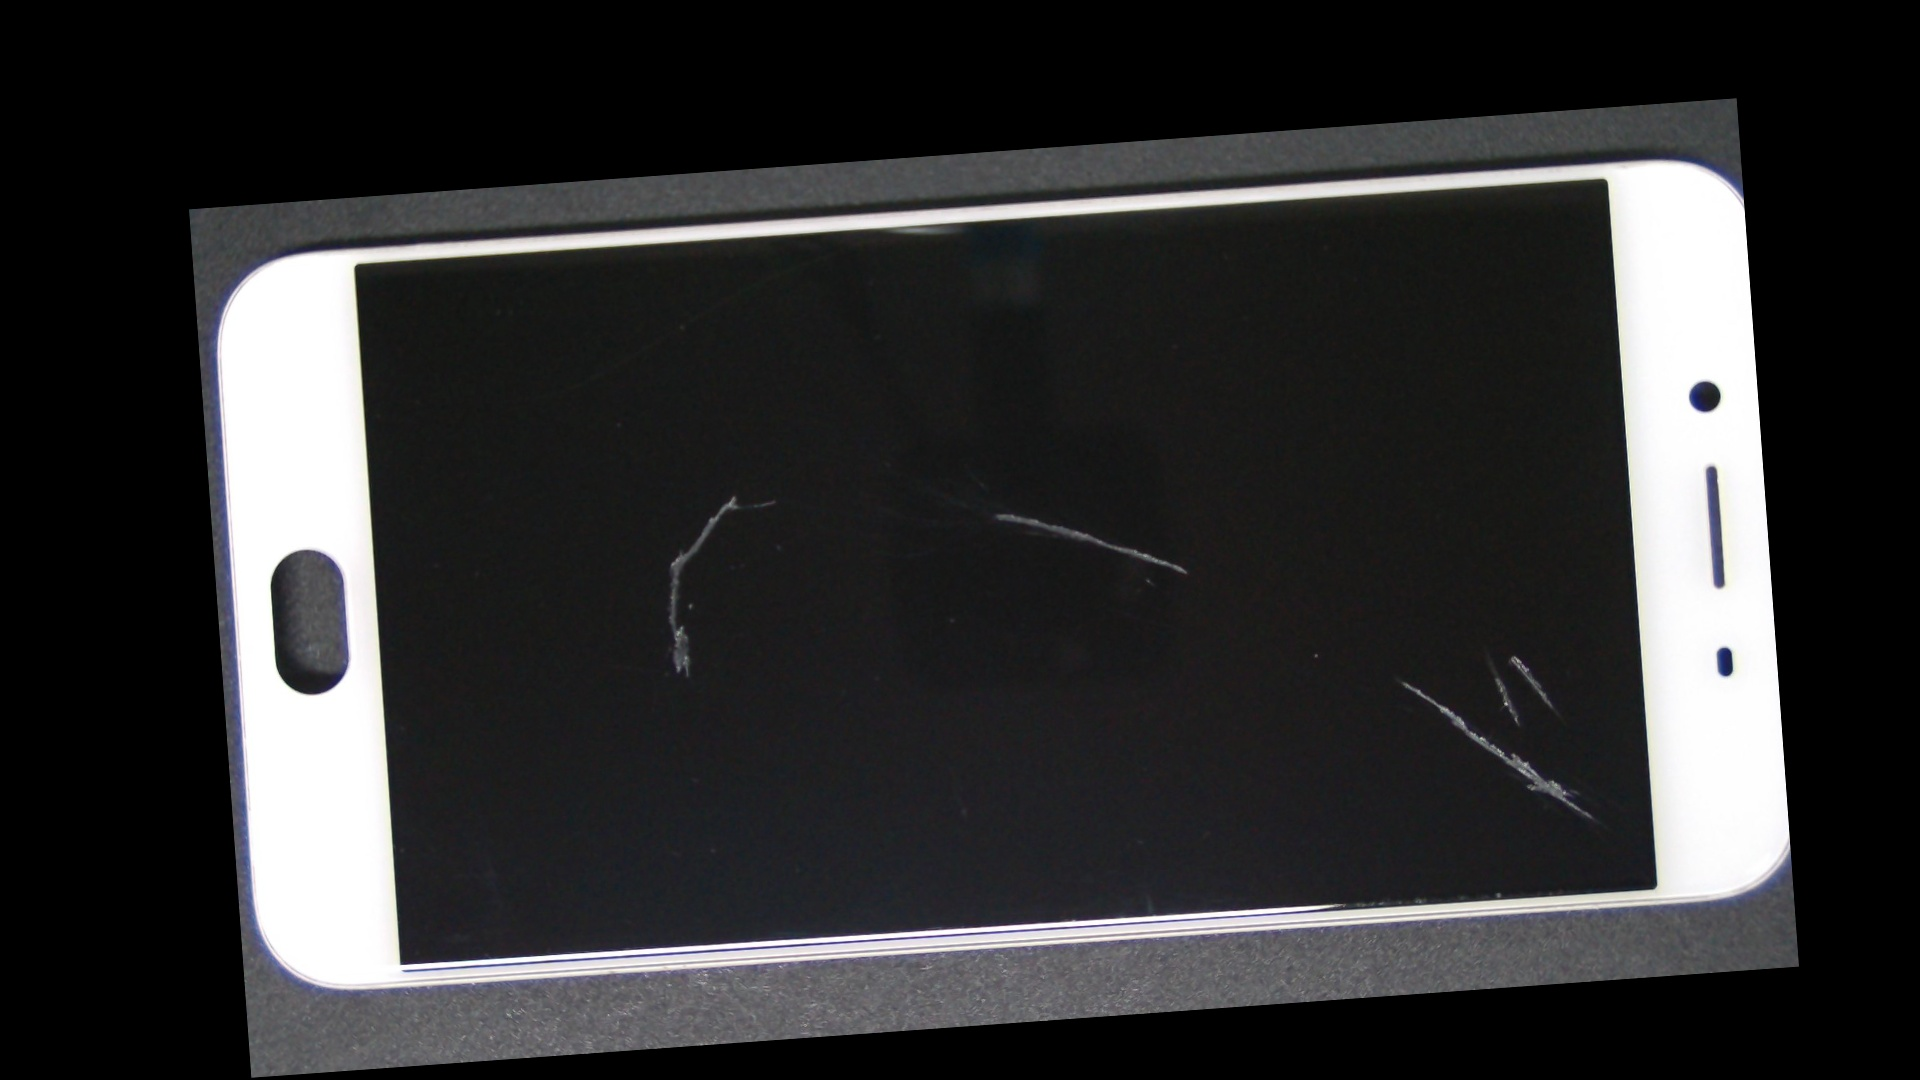oil: (795, 375, 1796, 1001), (840, 367, 1795, 972), (853, 367, 1795, 969), (595, 305, 1404, 721), (462, 314, 1004, 675)
